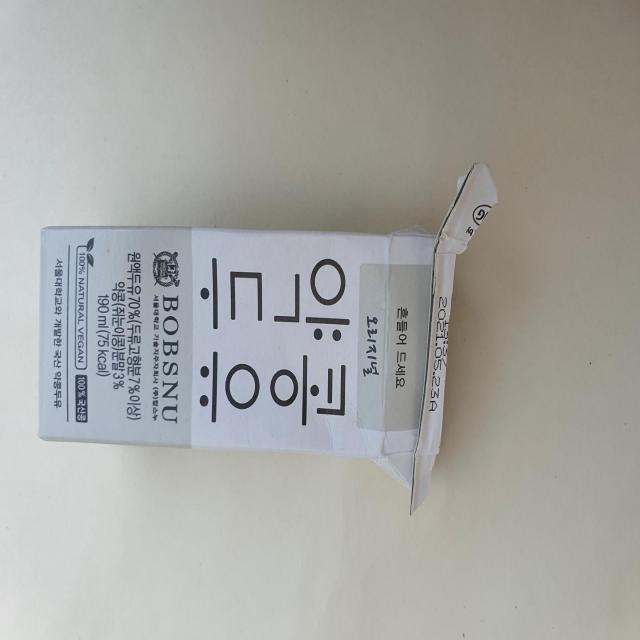paperpack: (38, 163, 498, 511)
